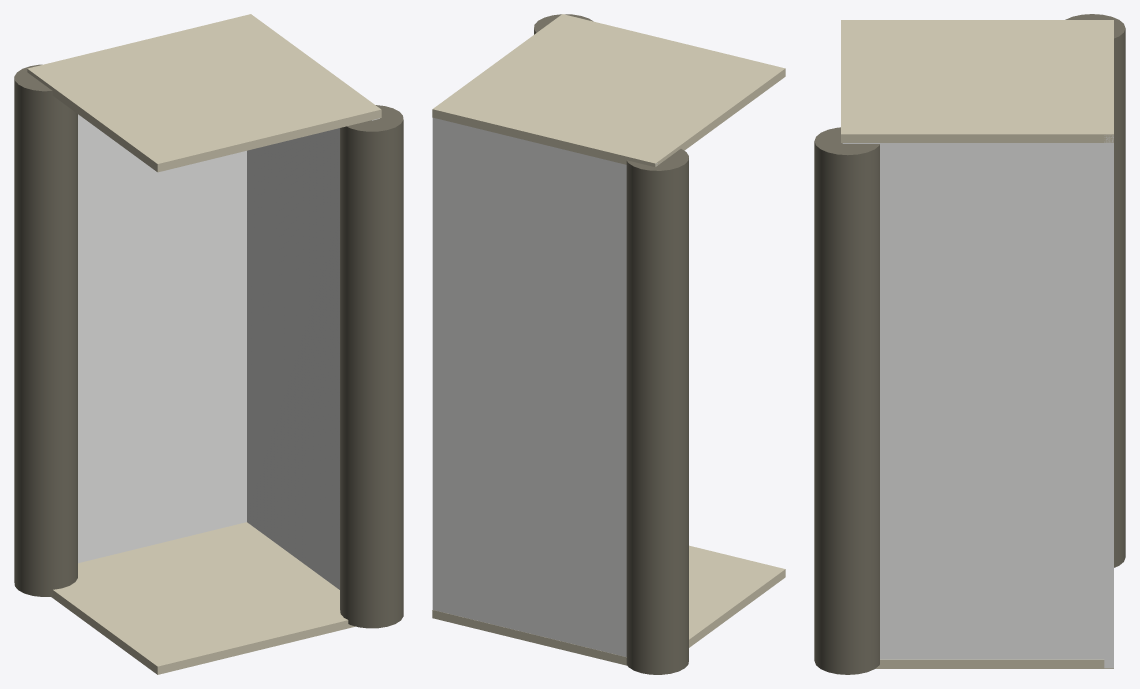
The model's file is Corner Wall.fbx.
3 views of the same model, side by side, from view 1: azimuth 30°, elevation 25°; view 2: azimuth 150°, elevation 25°; view 3: azimuth 270°, elevation 25° (orthographic). The views are drawn at different scales.
Visible parts, largest first — view 1: Wall_2_pCube1; view 2: Wall_2_pCube1; view 3: Wall_2_pCube1.
Boxes of the visible parts, <box> form: Wall_2_pCube1: <box>14,14,403,674</box>; Wall_2_pCube1: <box>432,14,785,674</box>; Wall_2_pCube1: <box>814,14,1125,674</box>.
Bounding box in the file's own units: 9.56 × 17.66 × 9.32.
